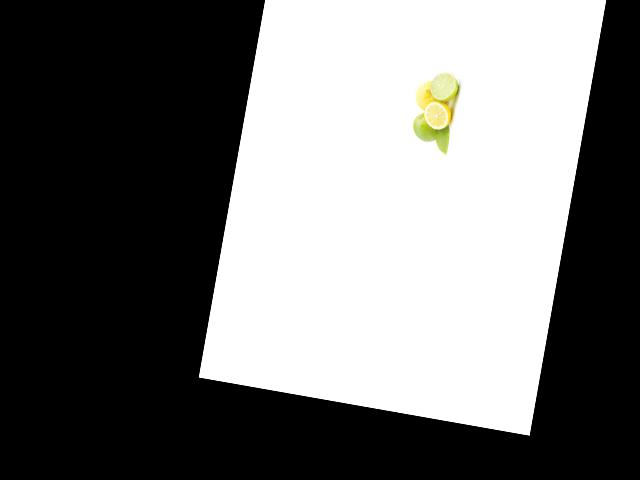lemon: (411, 77, 440, 112)
